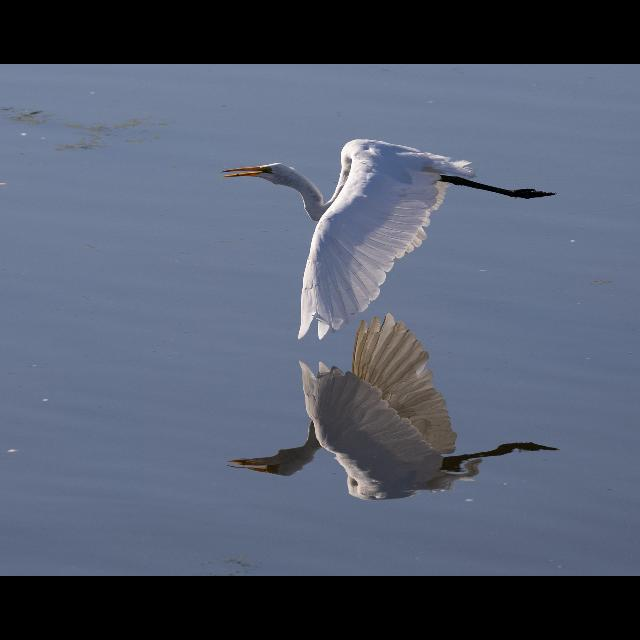egret: (221, 138, 557, 340)
